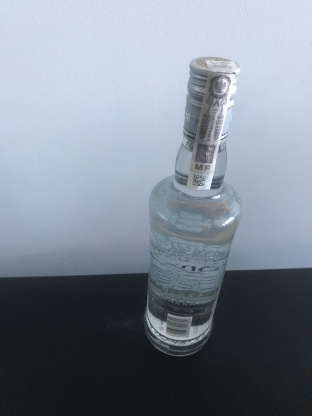nakretka: (180, 52, 242, 144)
